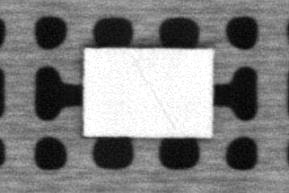DIE_CRACK: (136, 65, 175, 129)
